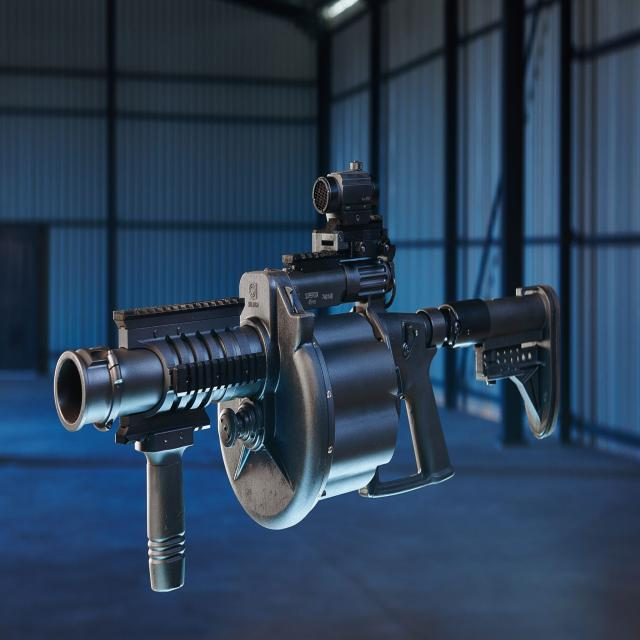Weapon: (54, 161, 559, 591)
